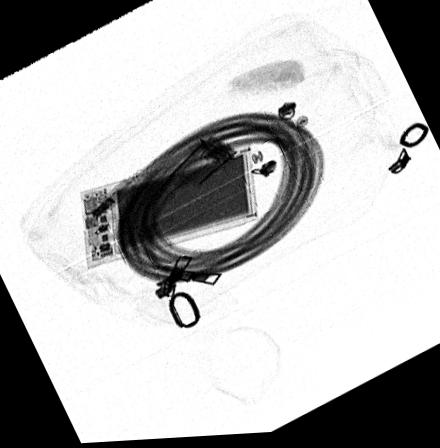Powerbank: (79, 148, 260, 270)
